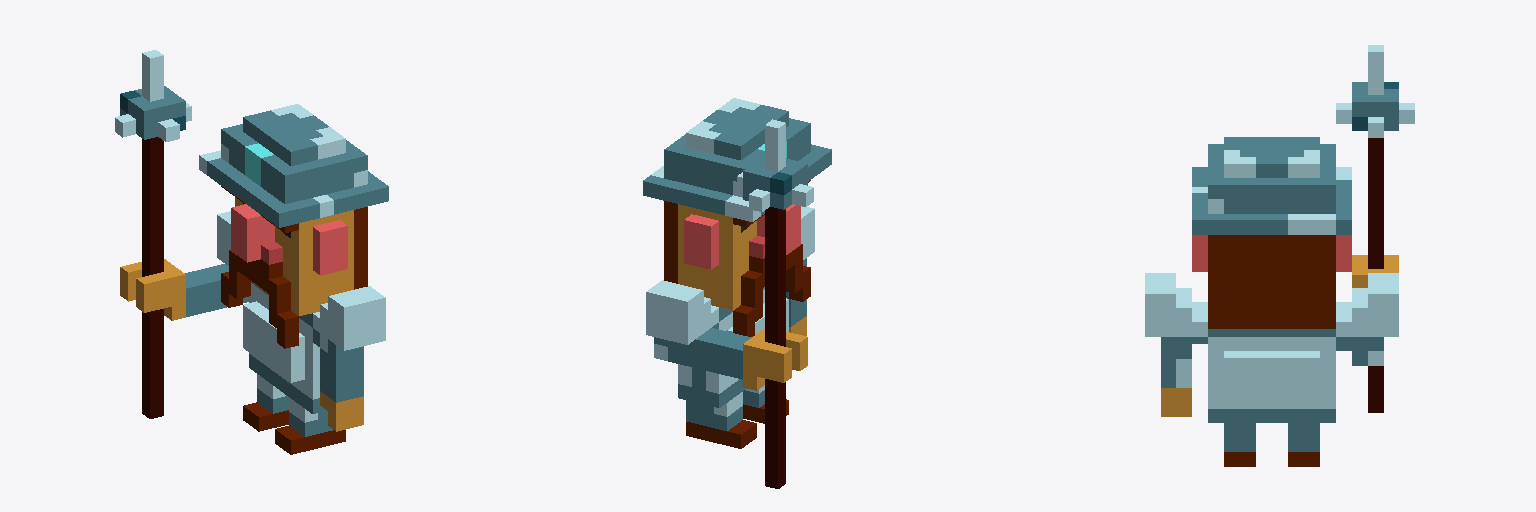
The picture shows the model from 3 angles: view 1: azimuth 30°, elevation 25°; view 2: azimuth 150°, elevation 25°; view 3: azimuth 270°, elevation 25°; orthographic projection.
Parts seen in each view (by area): view 1: object 1; view 2: object 1; view 3: object 1.
Part boxes in pixels (left/top/right/bottom): object 1: left=115, top=50, right=388, bottom=454; object 1: left=643, top=98, right=831, bottom=488; object 1: left=1145, top=45, right=1414, bottom=466.
Size of the model in its own units: 1.3 by 2.5 by 1.7.
1 materials, 1 textured.